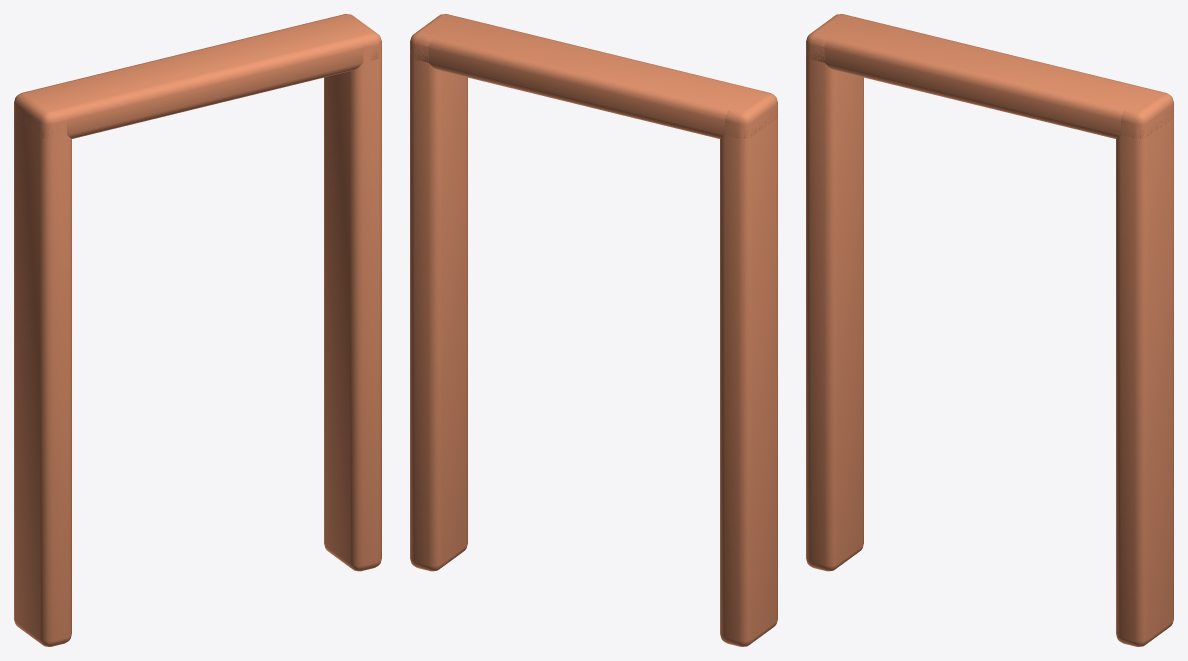
The model's file is doorway-arch.glb.
The picture shows the model from 3 angles, left to right: view 1: azimuth 30°, elevation 25°; view 2: azimuth 150°, elevation 25°; view 3: azimuth 330°, elevation 25°; orthographic projection.
Parts seen in each view (by area): view 1: frame-left, frame-right, frame-top.001; view 2: frame-left, frame-right, frame-top.001; view 3: frame-right, frame-left, frame-top.001.
Part boxes in pixels (x1,y1,x2,y2): frame-left: (14, 96, 71, 646); frame-right: (324, 36, 381, 571); frame-top.001: (14, 14, 381, 138); frame-left: (720, 95, 777, 646); frame-right: (410, 37, 467, 571); frame-top.001: (410, 14, 777, 138); frame-right: (1116, 95, 1173, 646); frame-left: (806, 37, 863, 571); frame-top.001: (806, 14, 1173, 138).
Size of the model in its own units: 2 by 3 by 0.35.
